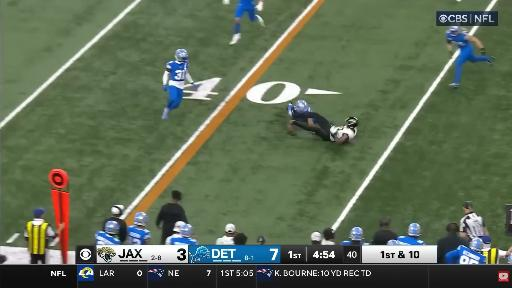Helmet: (469, 238, 484, 252), (294, 99, 309, 113), (104, 221, 119, 234), (448, 26, 467, 36), (134, 212, 147, 226), (350, 227, 363, 241), (408, 223, 421, 236), (180, 224, 193, 237), (175, 49, 187, 61), (346, 117, 358, 128), (449, 26, 461, 36), (297, 99, 307, 106), (387, 240, 399, 245), (346, 117, 358, 121)
Jersey: (446, 246, 486, 264), (167, 61, 188, 89), (446, 31, 471, 49), (127, 225, 150, 244), (287, 104, 311, 121), (330, 126, 357, 141), (95, 231, 121, 245), (397, 236, 425, 245), (171, 238, 197, 245), (341, 240, 369, 245), (239, 0, 255, 7)
Player: (446, 26, 493, 87), (162, 49, 197, 119), (290, 112, 358, 145), (230, 0, 264, 45), (446, 238, 486, 264), (128, 212, 150, 244), (287, 100, 314, 126), (95, 221, 121, 244), (398, 223, 425, 245), (171, 224, 197, 245), (342, 227, 369, 245), (165, 222, 185, 244), (387, 240, 400, 245), (508, 254, 512, 264)
